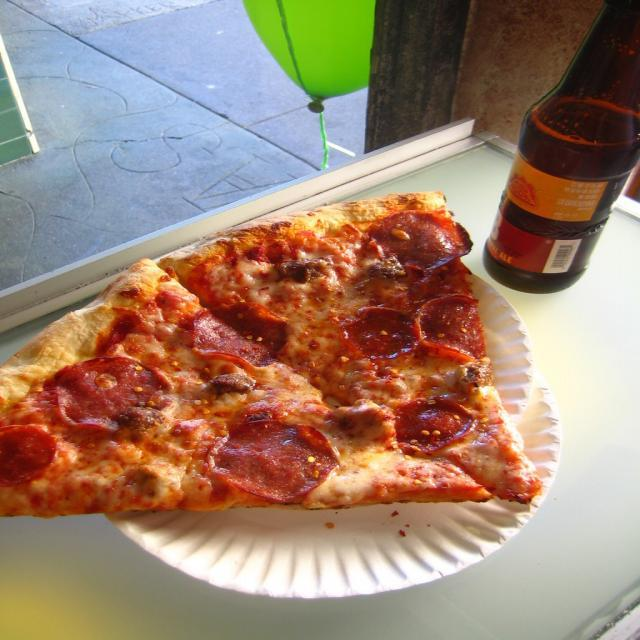Pizza: (24, 179, 548, 529)
